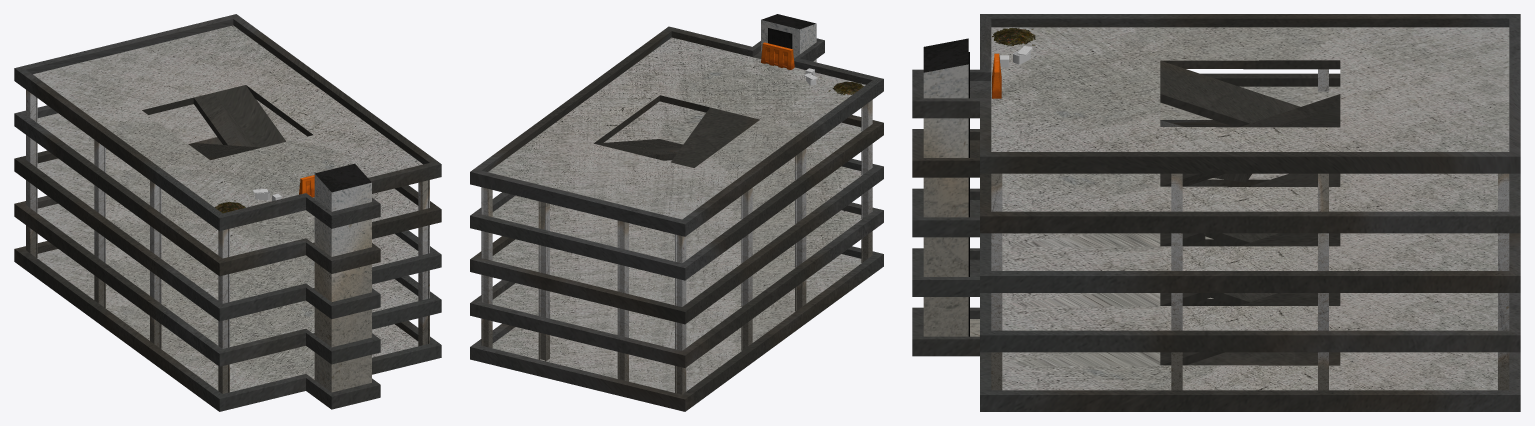
The model's file is ENV_Interest_Parking_Garage_v3.fbx.
3 renders of one model, left to right at view 1: azimuth 30°, elevation 25°; view 2: azimuth 150°, elevation 25°; view 3: azimuth 270°, elevation 25°, orthographic. The views are drawn at different scales.
Parts seen in each view (by area): view 1: ENV_ParkingGarage1; view 2: ENV_ParkingGarage1, ENV_ParkingBigRoadBarrier; view 3: ENV_ParkingGarage1, ENV_ParkingGarbage.
Part boxes in pixels (box(x1,y1,x2,y2)): ENV_ParkingGarage1: box(14, 14, 441, 411); ENV_ParkingGarage1: box(470, 14, 883, 411); ENV_ParkingBigRoadBarrier: box(761, 42, 794, 69); ENV_ParkingGarage1: box(912, 14, 1520, 411); ENV_ParkingGarbage: box(992, 28, 1035, 45).
Bounding box in the file's own units: 36 × 34 × 64.8.
